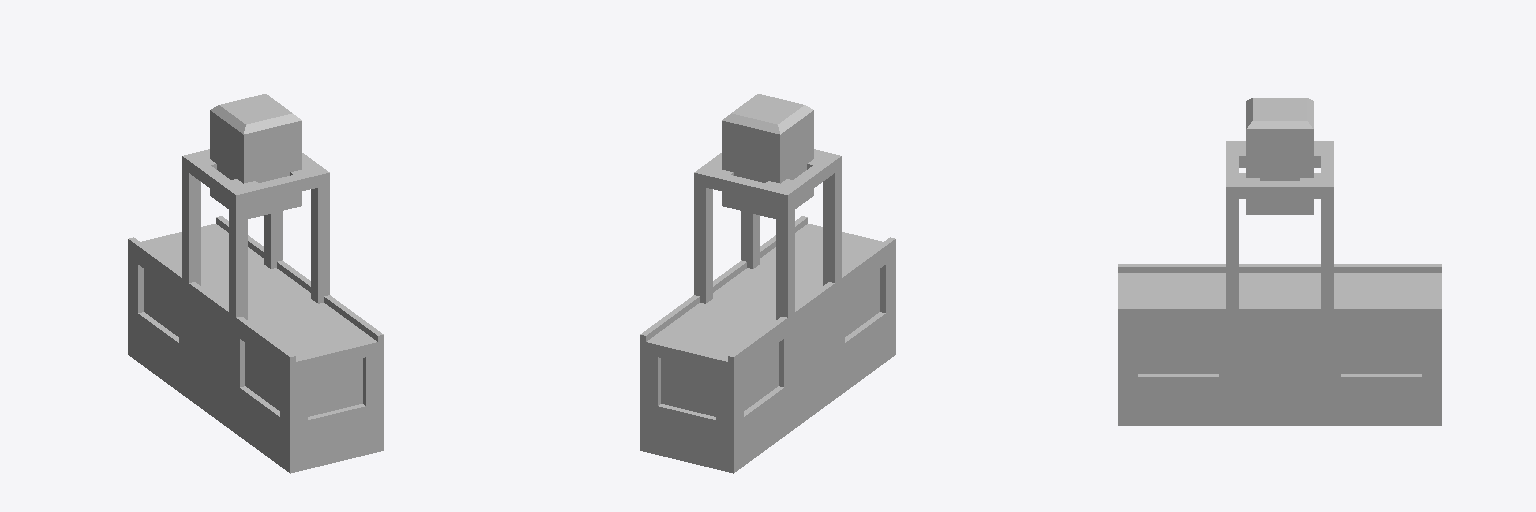
Rendered from metal_press.obj.
The picture shows the model from 3 angles: view 1: azimuth 30°, elevation 25°; view 2: azimuth 150°, elevation 25°; view 3: azimuth 270°, elevation 25°; orthographic projection.
Parts seen in each view (by area): view 1: base, conveyors; view 2: base, conveyors; view 3: base, conveyors.
Boxes of the visible parts, x1=… form: base: x1=128, y1=94, x2=383, y2=473; conveyors: x1=141, y1=224, x2=377, y2=373; base: x1=640, y1=94, x2=895, y2=473; conveyors: x1=646, y1=224, x2=882, y2=373; base: x1=1118, y1=98, x2=1441, y2=425; conveyors: x1=1118, y1=273, x2=1441, y2=306.
Bounding box in the file's own units: 1 × 3 × 3.